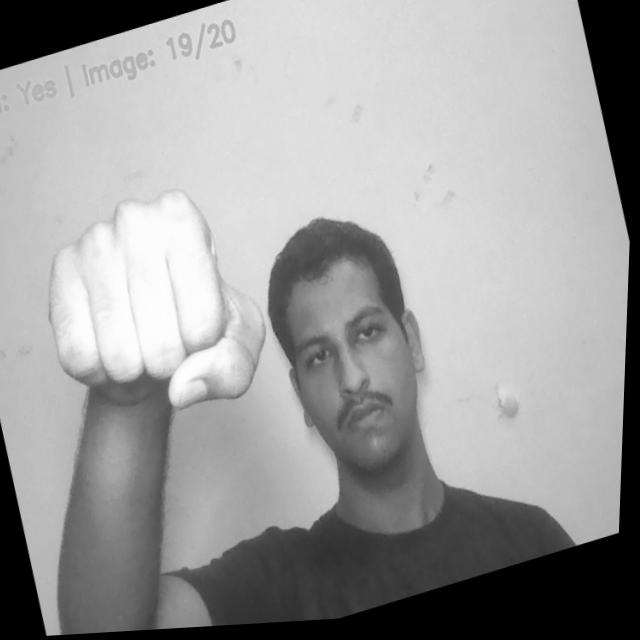Yes: (22, 166, 290, 451)
